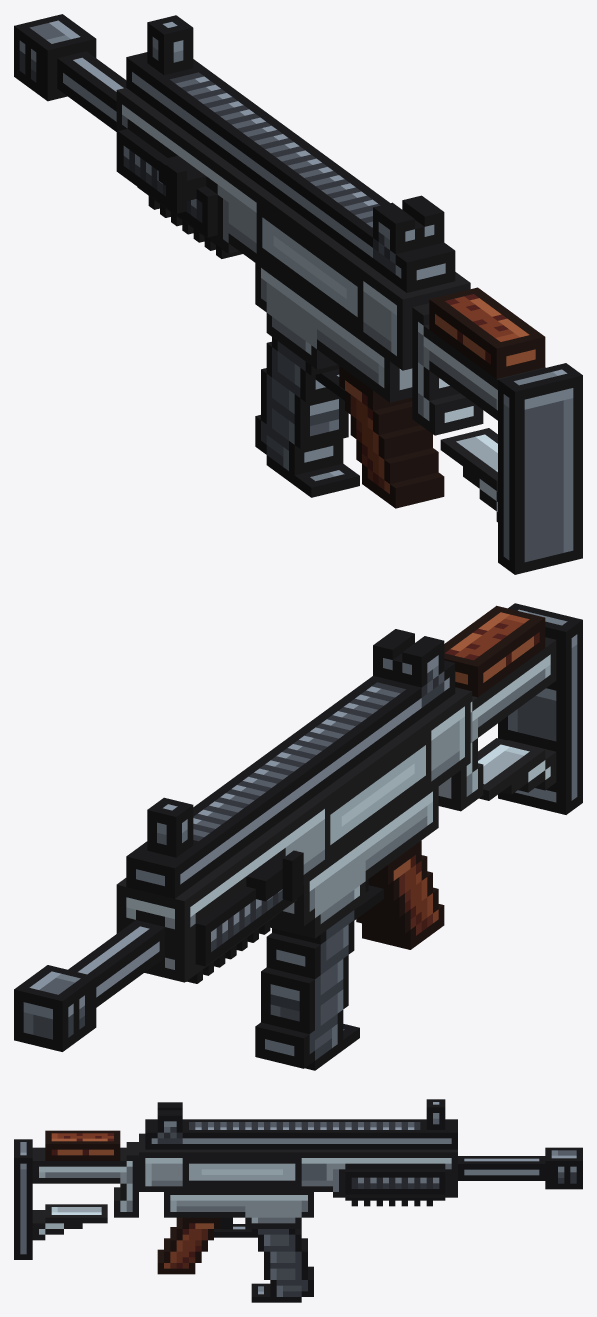
Rendered from Scar.glb.
The picture shows the model from 3 angles, top to bottom: view 1: azimuth 30°, elevation 25°; view 2: azimuth 150°, elevation 25°; view 3: azimuth 270°, elevation 25°; orthographic projection. The views are drawn at different scales.
Parts seen in each view (by area): view 1: Body, Magazine, Slide; view 2: Body, Magazine, Slide; view 3: Body, Magazine.
Boxes of the visible parts, x1,y1,x2,y2 form: Body: (14,14,582,574); Magazine: (255,337,359,497); Slide: (158,155,206,213); Body: (14,603,582,1051); Magazine: (255,906,359,1070); Slide: (246,850,303,901); Body: (14,1099,582,1274); Magazine: (251,1229,313,1302).
Size of the model in its own units: 0.462 by 1.43 by 3.82.
1 material, 1 textured.
